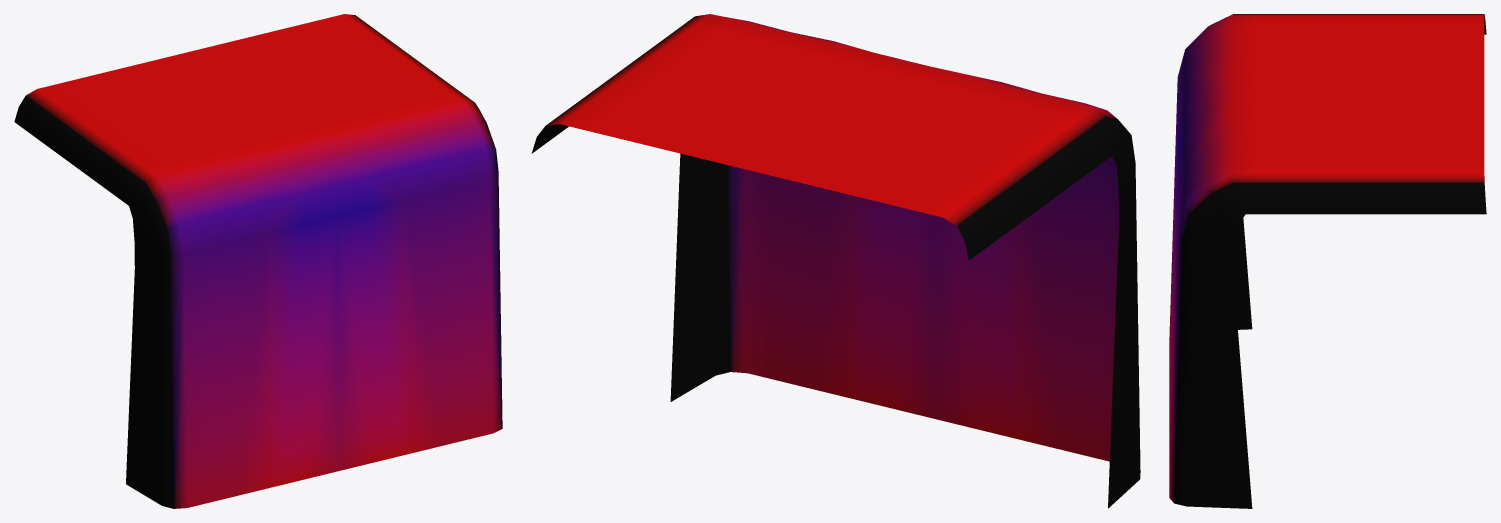
Rendered from PROP_WaterFall.fbx.
3 renders of one model, left to right at view 1: azimuth 30°, elevation 25°; view 2: azimuth 150°, elevation 25°; view 3: azimuth 270°, elevation 25°, orthographic. The views are drawn at different scales.
Visible parts, largest first — view 1: MESH_WaterFall_A; view 2: MESH_WaterFall_A; view 3: MESH_WaterFall_A.
Boxes of the visible parts, x1,y1,x2,y2 form: MESH_WaterFall_A: (14,14,502,508); MESH_WaterFall_A: (531,14,1140,508); MESH_WaterFall_A: (1169,14,1486,508).
Size of the model in its own units: 545 by 459 by 406.
